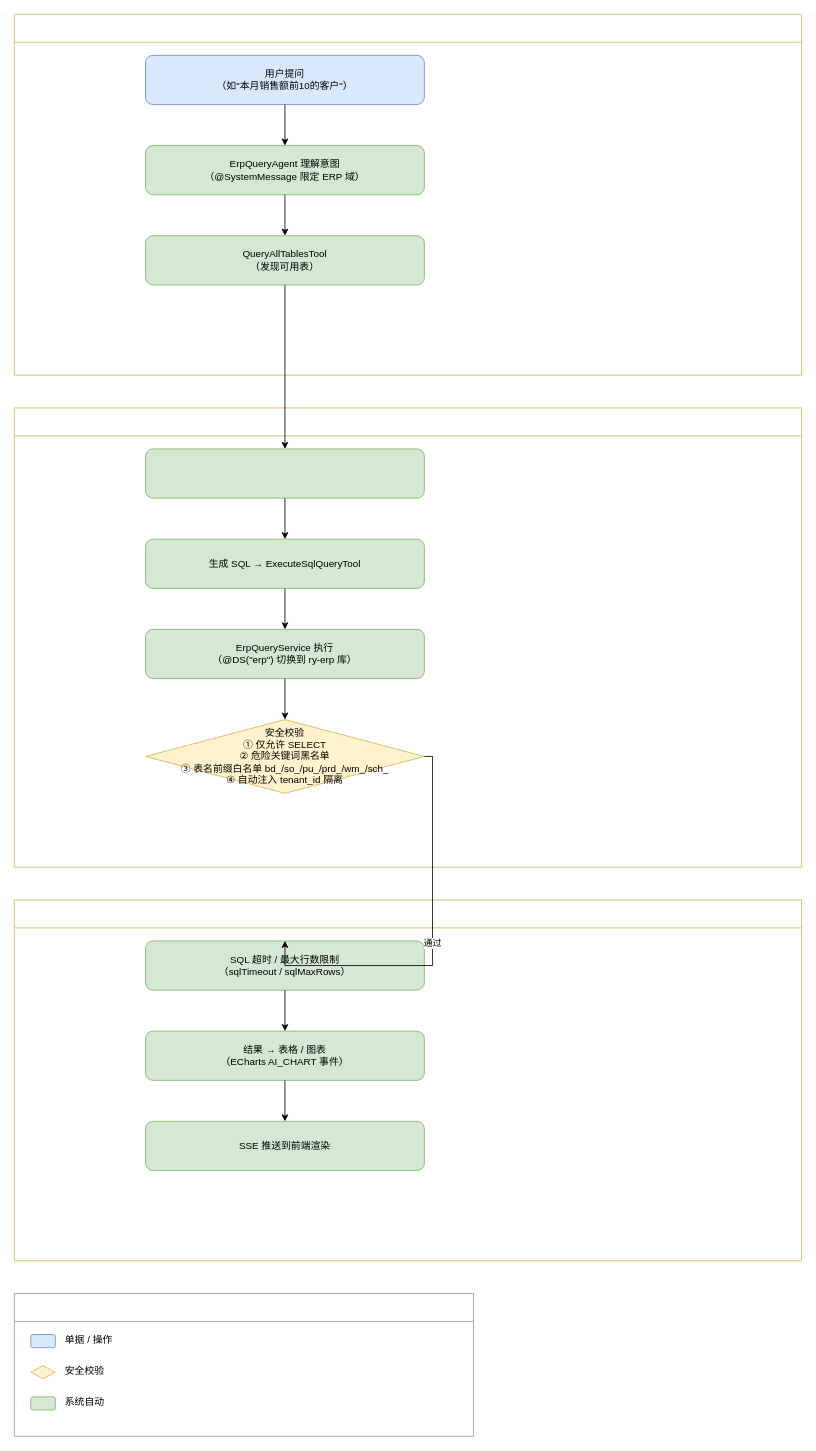
This 816x1451 diagram has some shape labels left out. The box of each missing label's shape, as (x1, y1, x2, y2) in pixels:
QueryTableSchemaTool （获取表结构）: (145, 448, 424, 498)
① 自然语言解析: (14, 14, 802, 375)
② SQL 生成与安全执行: (14, 407, 802, 867)
③ 结果处理: (14, 899, 802, 1261)
图例: (14, 1293, 474, 1436)
